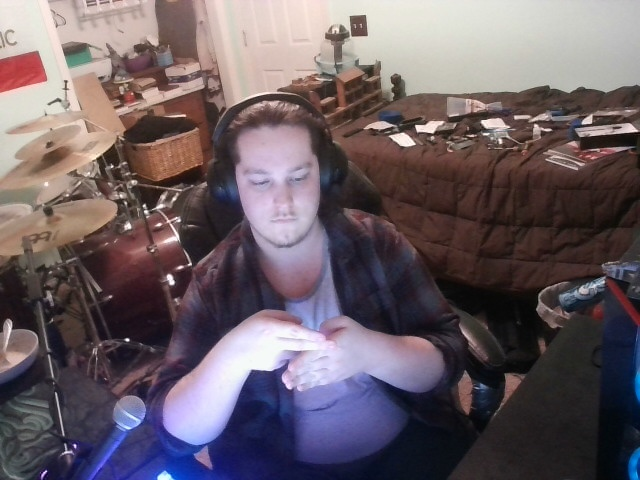name: (227, 296, 376, 405)
